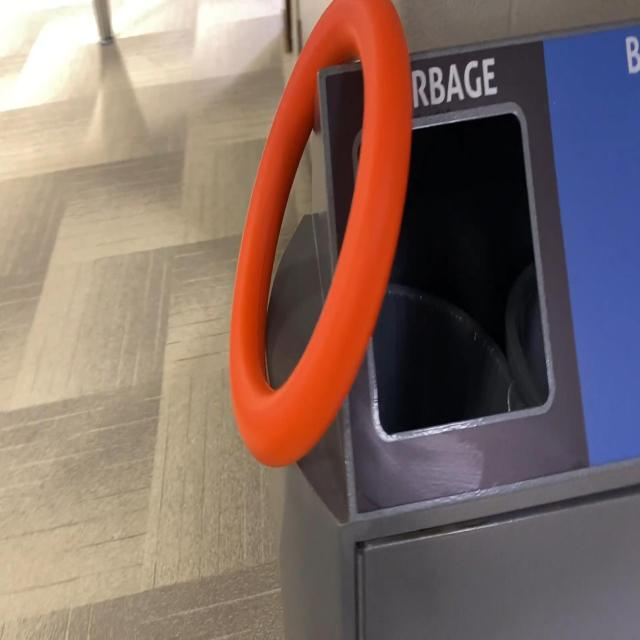note: (227, 0, 413, 470)
